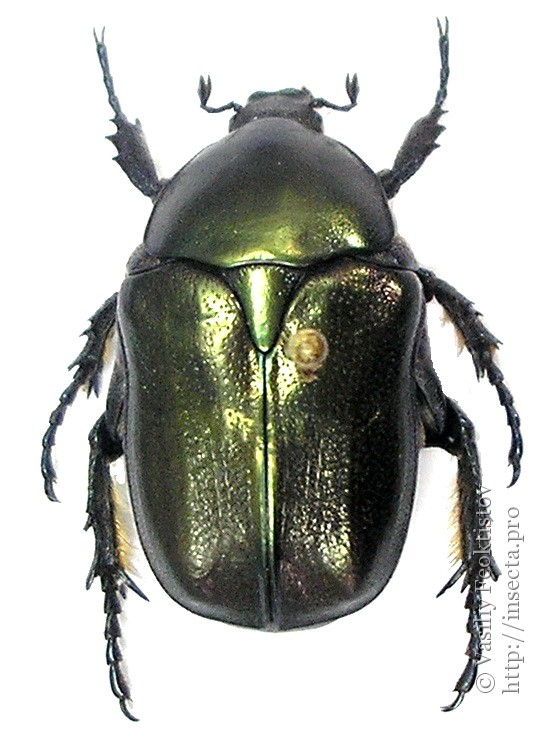Protaetia_angustata_angustata: (34, 3, 536, 724)
